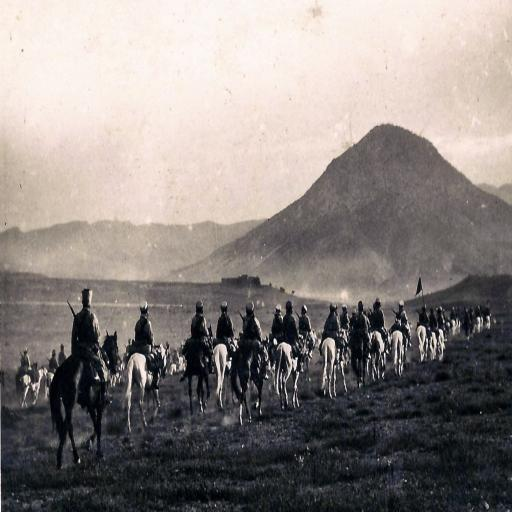horse: (184, 332, 320, 428), (48, 330, 120, 470), (122, 339, 170, 438), (318, 326, 348, 400), (366, 325, 386, 384), (388, 330, 404, 378), (416, 324, 426, 360)
